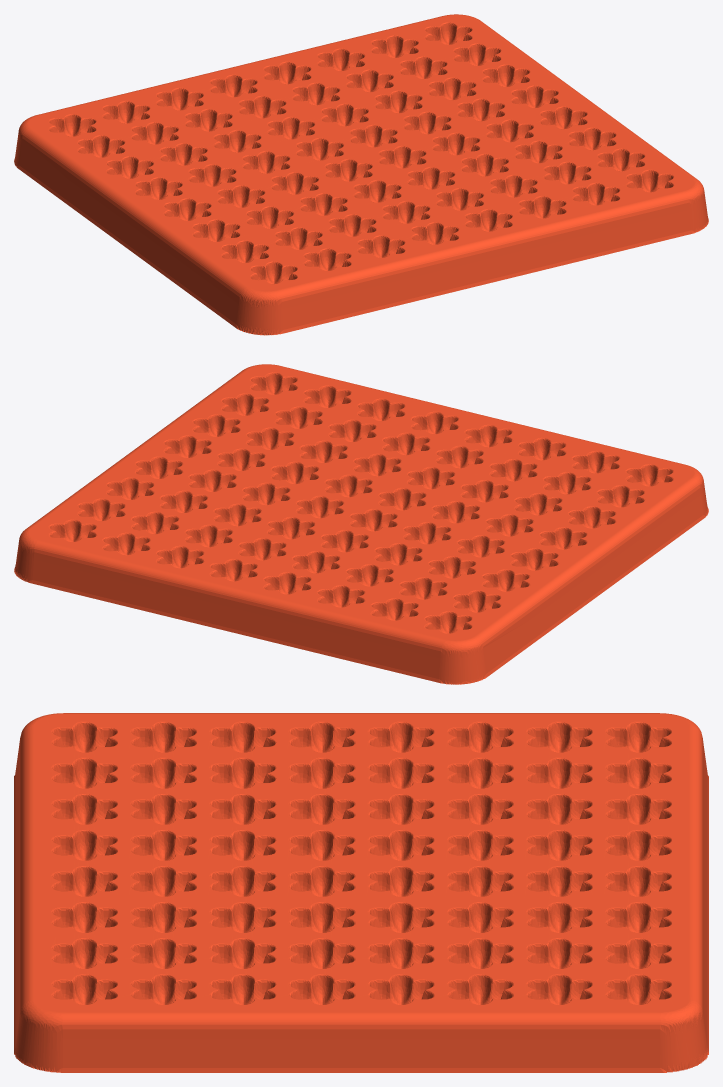
The model's file is mold.glb.
3 views of the same model, one above another, from view 1: azimuth 30°, elevation 25°; view 2: azimuth 150°, elevation 25°; view 3: azimuth 270°, elevation 25° (orthographic). The views are drawn at different scales.
Visible parts, largest first — view 1: geometry_0; view 2: geometry_0; view 3: geometry_0.
Part boxes in pixels (x1,y1,x2,y2): geometry_0: (14, 14, 708, 335); geometry_0: (14, 364, 708, 684); geometry_0: (14, 713, 708, 1072).
Size of the model in its own units: 0.1355 by 0.0105 by 0.1265.
